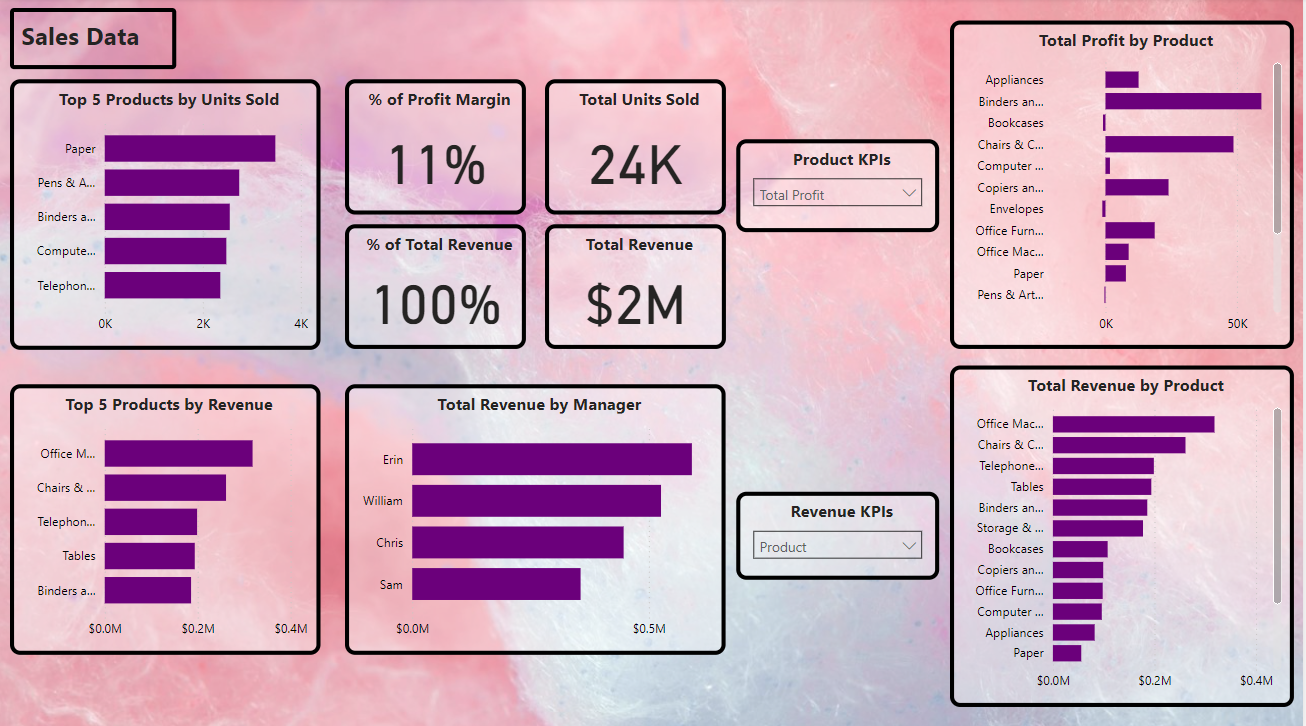

This screenshot's page, from the dashboard's own definition file:
{"tool":"powerbi","page":{"name":"Page 1","canvas":[1280,720],"ordinal":0},"visuals":[{"type":"clusteredBarChart","title":"Top 5 Products by Revenue","fields":{"Category":["Orders.Product Sub-Category"],"Y":["Orders.Total Revenue"]},"box":[10.1,379.4,304.4,265.5],"z":0},{"type":"clusteredBarChart","title":"Top 5 Products by Units Sold","fields":{"Category":["Orders.Product Sub-Category"],"Y":["Orders.Total Units Sold"]},"box":[10.1,79.4,304.4,265.5],"z":1},{"type":"barChart","fields":{"Category":["Orders.Product Sub-Category"],"Y":["Orders.Total Revenue"]},"box":[932.5,360.7,337.4,335],"z":3},{"type":"clusteredBarChart","fields":{"Category":["Users.Manager"],"Y":["Orders.Total Revenue"]},"box":[339,379.4,373.7,265.5],"z":4},{"type":"card","title":"Total Units Sold","fields":{"Values":["Orders.Total Units Sold"]},"box":[535.3,79.4,177.5,132.7],"z":7},{"type":"card","title":"Total Revenue","fields":{"Values":["Orders.Total Revenue"]},"box":[535.3,222.2,177.5,122.6],"z":8},{"type":"card","title":"% of Profit Margin","fields":{"Values":["Orders.% of Profit Margin"]},"box":[339,79.4,177.5,132.7],"z":9},{"type":"card","title":"% of Total Revenue","fields":{"Values":["Orders.% of Total Revenue"]},"box":[339,222.2,177.5,122.6],"z":10},{"type":"textbox","box":[9.8,9.8,163.2,60.1],"z":11},{"type":"barChart","fields":{"Y":["Orders.Total Profit"],"Category":["Orders.Product Sub-Category"]},"box":[932.5,22.1,337.4,322.7],"z":12},{"type":"slicer","title":"Product KPIs","fields":{"Values":["Product Level.Product Level"]},"box":[722.8,138.5,199.1,90.9],"z":13},{"type":"slicer","title":"Revenue KPIs","fields":{"Values":["Revenue KPIs.Revenue KPIs"]},"box":[722.8,484.8,199.1,86.6],"z":14}]}

Visuals, with their boxes in screenshot pixels (x1, y1, x2, y2), scaled from the page's 1280x720 canvas onto the 1306x726 screenshot:
"Top 5 Products by Revenue" clusteredBarChart: 10/383/321/650
"Top 5 Products by Units Sold" clusteredBarChart: 10/80/321/348
barChart - Orders.Product Sub-Category x Orders.Total Revenue: 951/364/1296/701
clusteredBarChart - Users.Manager x Orders.Total Revenue: 346/383/727/650
"Total Units Sold" card: 546/80/727/214
"Total Revenue" card: 546/224/727/348
"% of Profit Margin" card: 346/80/527/214
"% of Total Revenue" card: 346/224/527/348
textbox: 10/10/177/70
barChart - Orders.Total Profit x Orders.Product Sub-Category: 951/22/1296/348
"Product KPIs" slicer: 737/140/941/231
"Revenue KPIs" slicer: 737/489/941/576
